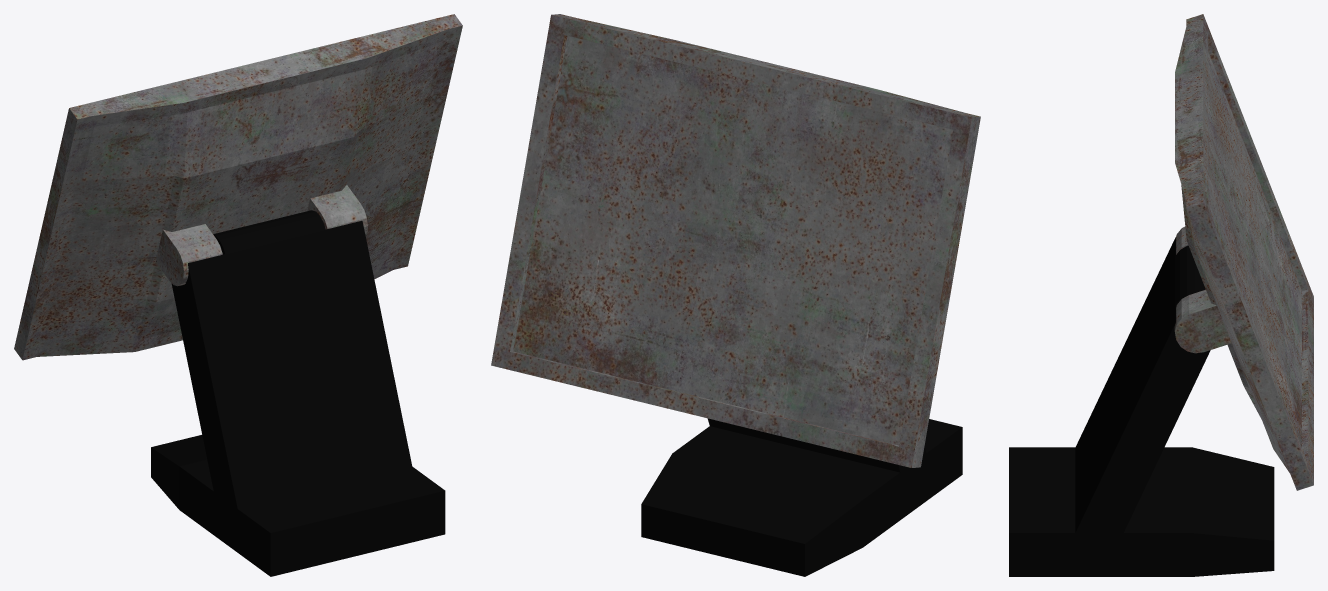
Rendered from COMPUTER.glb.
3 views of the same model, side by side, from view 1: azimuth 30°, elevation 25°; view 2: azimuth 150°, elevation 25°; view 3: azimuth 270°, elevation 25° (orthographic). The views are drawn at different scales.
Parts seen in each view (by area): view 1: base; view 2: base; view 3: base.
Part boxes in pixels (x1,y1,x2,y2): base: (14,14,462,576); base: (491,14,980,576); base: (1009,14,1313,576).
Size of the model in its own units: 0.253 by 0.2658 by 0.1724.
Materials: 2 (1 with a texture image).
